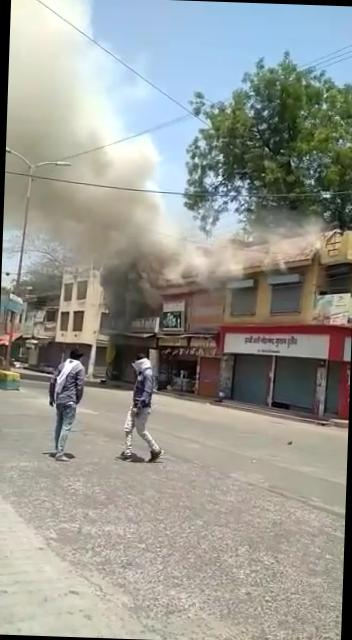Smoke: (1, 0, 333, 305)
